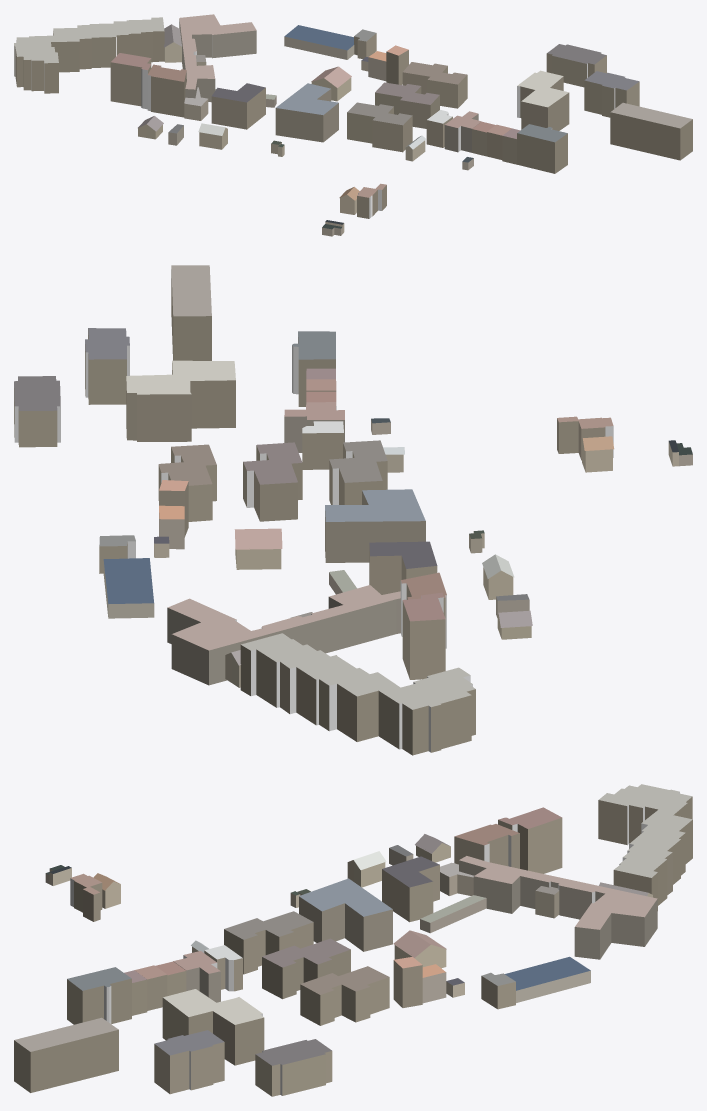
3 views of the same model, one above another, from view 1: azimuth 30°, elevation 25°; view 2: azimuth 150°, elevation 25°; view 3: azimuth 270°, elevation 25° (orthographic). The views are drawn at different scales.
Visible parts, largest first — view 1: tuile; view 2: tuile; view 3: tuile.
Part boxes in pixels (x1,y1,x2,y2): tuile: (14, 14, 692, 236); tuile: (14, 265, 692, 755); tuile: (14, 784, 692, 1096).
Size of the model in its own units: 240 by 21.03 by 246.
